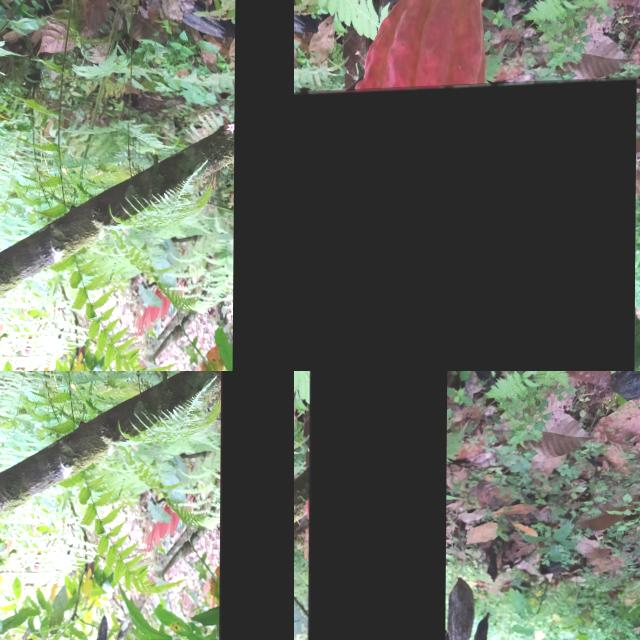Fitoftora: (219, 371, 294, 640), (448, 579, 476, 640), (471, 615, 492, 640)
Monilia: (294, 82, 636, 371), (233, 0, 294, 371)
Sana: (308, 371, 447, 640)
